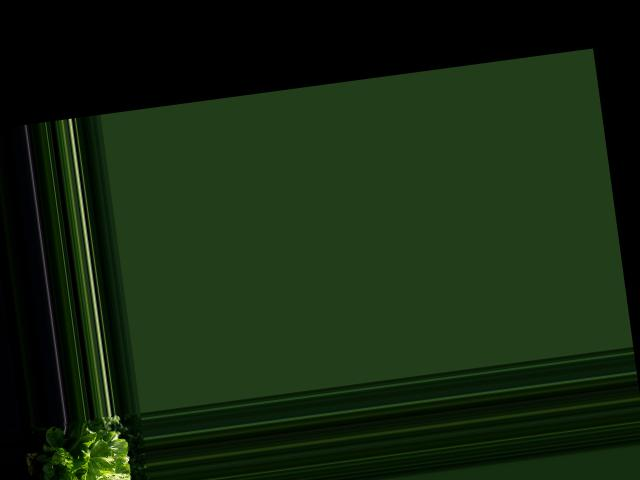lettuce: (39, 417, 134, 480)
